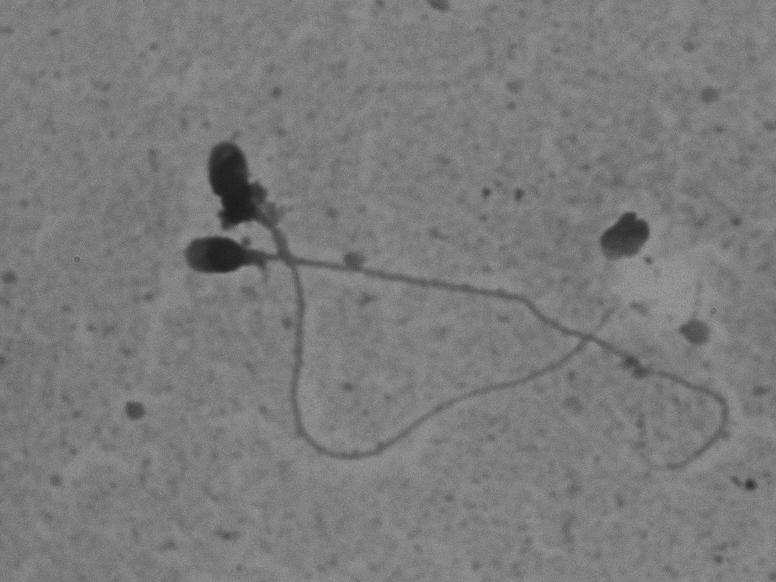Abnormal: (191, 123, 629, 467)
Normal: (168, 227, 743, 480)
